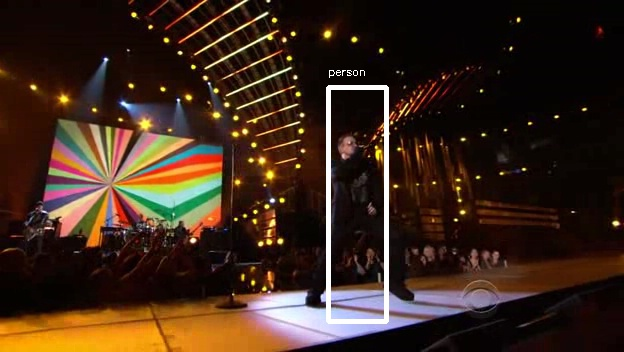person: (328, 135, 395, 255), (325, 135, 392, 255), (331, 135, 398, 255), (328, 132, 395, 252), (328, 138, 395, 258)
target_negative: (54, 206, 456, 254), (121, 183, 226, 351), (266, 183, 428, 277), (423, 134, 484, 308), (578, 102, 616, 228), (570, 282, 623, 295)
